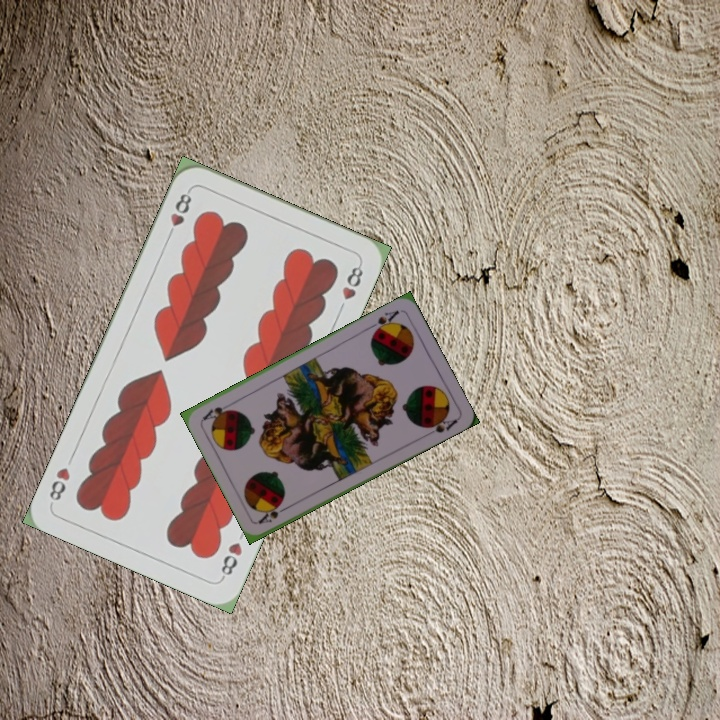H8: (163, 186, 195, 242), (216, 538, 245, 582)
SA: (365, 306, 401, 337), (254, 500, 292, 527)
